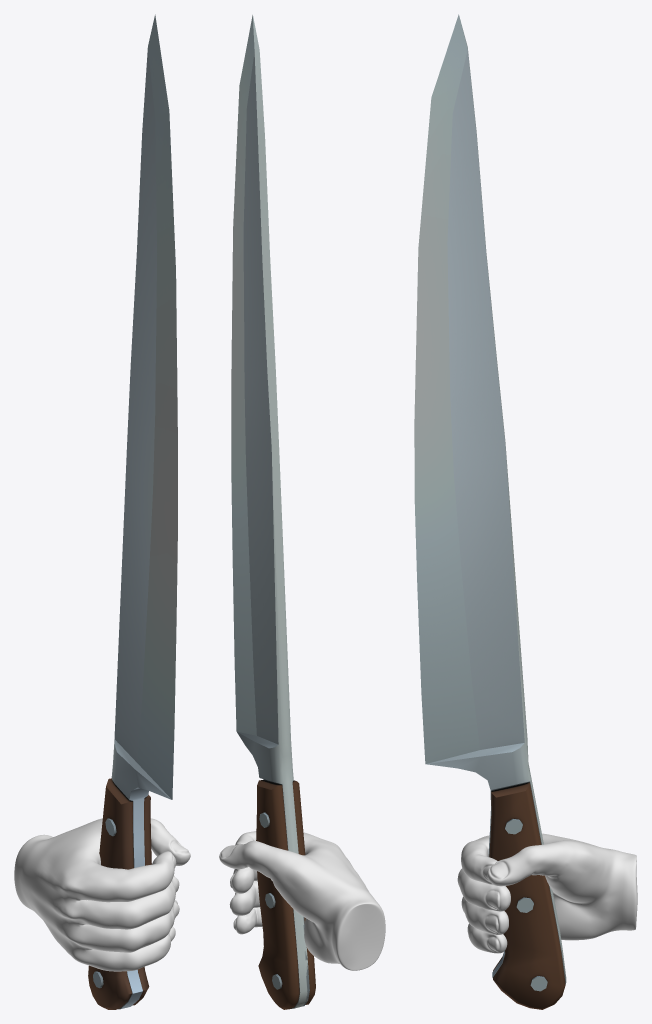
Rendered from нож с правой рукой вместе.fbx.
3 renders of one model, left to right at view 1: azimuth 30°, elevation 25°; view 2: azimuth 210°, elevation 25°; view 3: azimuth 270°, elevation 25°, orthographic. The views are drawn at different scales.
Visible parts, largest first — view 1: Plane.001; view 2: Plane.001; view 3: Plane.001.
Part boxes in pixels (x1,y1,x2,y2): Plane.001: (14, 14, 190, 1009); Plane.001: (219, 14, 385, 1009); Plane.001: (414, 14, 637, 1009).
Bounding box in the file's own units: 16.58 × 136 × 27.81.
2 materials, 1 textured.
